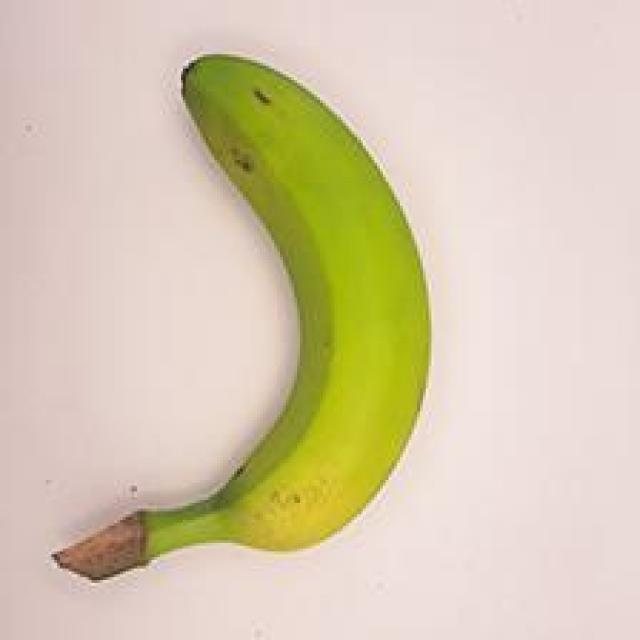Unripe: (53, 41, 483, 582)
